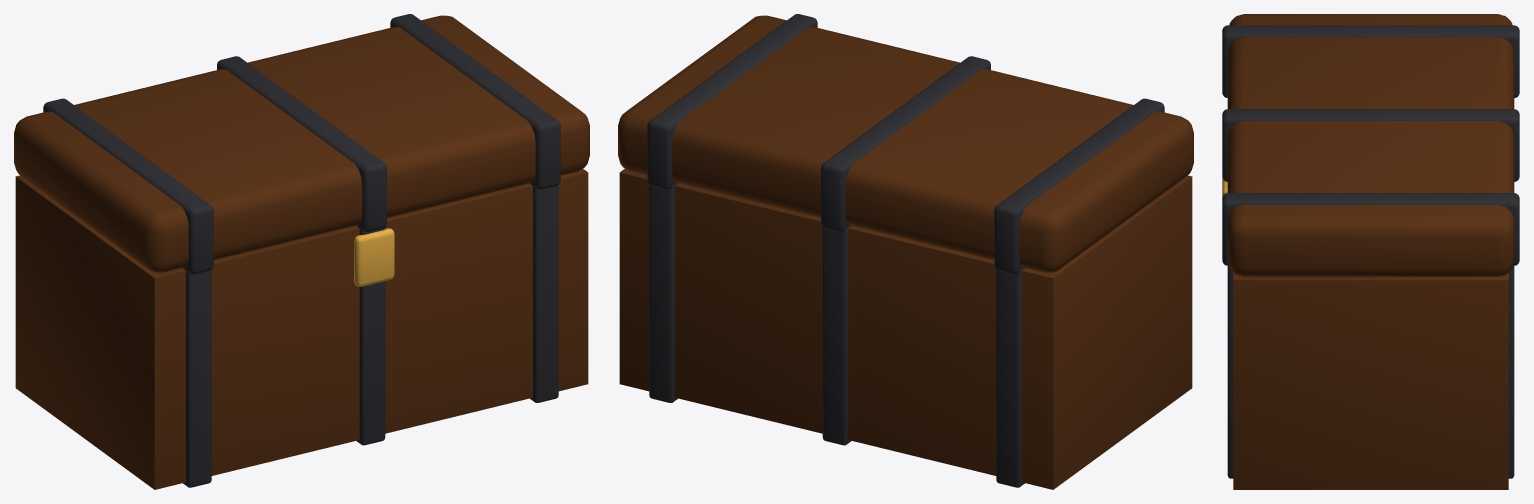
Rendered from old_chest.glb.
3 views of the same model, side by side, from view 1: azimuth 30°, elevation 25°; view 2: azimuth 150°, elevation 25°; view 3: azimuth 270°, elevation 25° (orthographic).
Parts seen in each view (by area): view 1: old_chest, old_chest_lid; view 2: old_chest, old_chest_lid; view 3: old_chest_lid, old_chest.
Part boxes in pixels (box(x1,y1,x2,y2)): old_chest: box(15, 169, 588, 489); old_chest_lid: box(14, 14, 589, 274); old_chest: box(619, 169, 1192, 489); old_chest_lid: box(618, 14, 1193, 274); old_chest_lid: box(1222, 14, 1519, 276); old_chest: box(1222, 177, 1514, 489).
Bounding box in the file's own units: 0.92 × 0.555 × 0.54.
